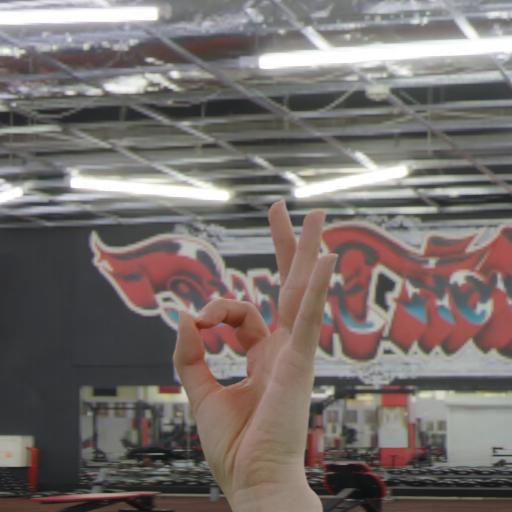F: (163, 192, 352, 510)
